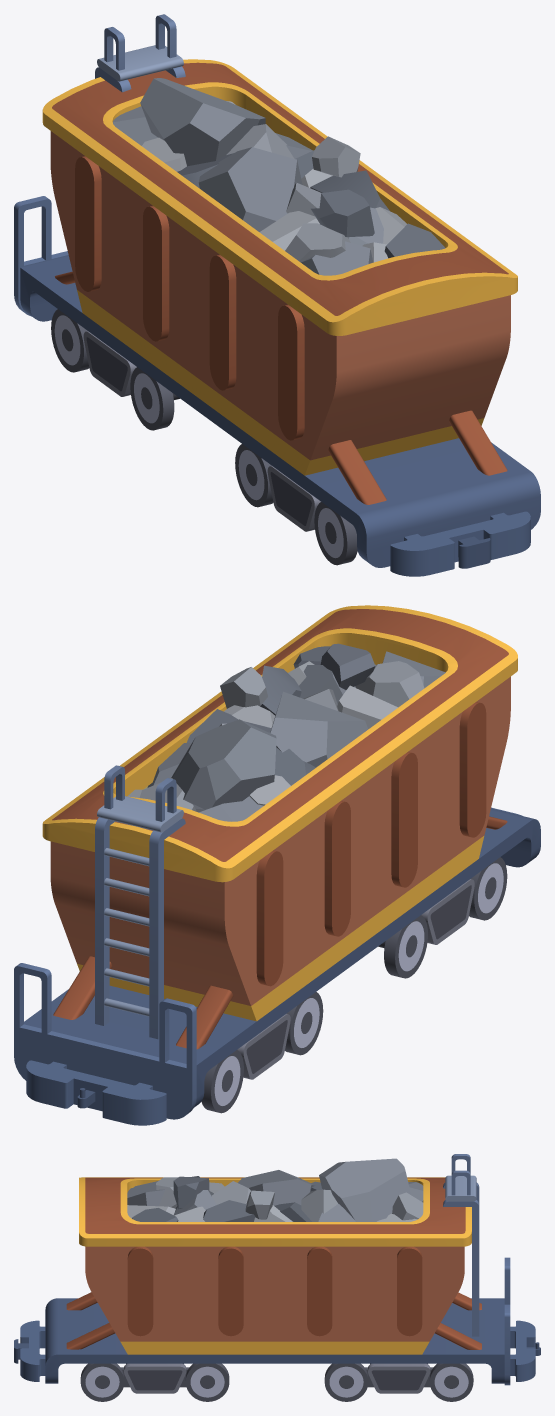
File: Wagon Hopper Open.fbx
3 views of the same model, one above another, from view 1: azimuth 30°, elevation 25°; view 2: azimuth 150°, elevation 25°; view 3: azimuth 270°, elevation 25° (orthographic). The views are drawn at different scales.
Visible parts, largest first — view 1: Wagon Hopper Open, Stone, Wagon Hopper Open Wheel.004, Wagon Hopper Open Wheel.002, Wagon Hopper Open Wheel.001, Wagon Hopper Open Wheel, Wagon Hopper Open Wheel.005, Wagon Hopper Open Wheel.003; view 2: Wagon Hopper Open, Stone, Wagon Hopper Open Wheel.003, Wagon Hopper Open Wheel.001, Wagon Hopper Open Wheel, Wagon Hopper Open Wheel.005, Wagon Hopper Open Wheel.002, Wagon Hopper Open Wheel.004; view 3: Wagon Hopper Open, Stone, Wagon Hopper Open Wheel, Wagon Hopper Open Wheel.001, Wagon Hopper Open Wheel.002, Wagon Hopper Open Wheel.004, Wagon Hopper Open Wheel.003, Wagon Hopper Open Wheel.005.
Part boxes in pixels (left/top/right/bottom): Wagon Hopper Open: left=14, top=14, right=540, bottom=576; Stone: left=113, top=78, right=445, bottom=275; Wagon Hopper Open Wheel.004: left=130, top=367, right=179, bottom=430; Wagon Hopper Open Wheel.002: left=314, top=502, right=357, bottom=565; Wagon Hopper Open Wheel.001: left=83, top=331, right=136, bottom=396; Wagon Hopper Open Wheel: left=267, top=466, right=320, bottom=531; Wagon Hopper Open Wheel.005: left=51, top=309, right=89, bottom=372; Wagon Hopper Open Wheel.003: left=235, top=444, right=273, bottom=507; Wagon Hopper Open: left=14, top=605, right=540, bottom=1125; Stone: left=127, top=643, right=445, bottom=821; Wagon Hopper Open Wheel.003: left=378, top=915, right=427, bottom=978; Wagon Hopper Open Wheel.001: left=237, top=1013, right=290, bottom=1079; Wagon Hopper Open Wheel: left=421, top=879, right=474, bottom=944; Wagon Hopper Open Wheel.005: left=201, top=1050, right=243, bottom=1113; Wagon Hopper Open Wheel.002: left=469, top=857, right=507, bottom=920; Wagon Hopper Open Wheel.004: left=285, top=992, right=323, bottom=1055; Wagon Hopper Open: left=14, top=1154, right=540, bottom=1385; Stone: left=127, top=1158, right=423, bottom=1221; Wagon Hopper Open Wheel: left=121, top=1363, right=189, bottom=1393; Wagon Hopper Open Wheel.001: left=365, top=1363, right=433, bottom=1393; Wagon Hopper Open Wheel.002: left=80, top=1363, right=124, bottom=1401; Wagon Hopper Open Wheel.004: left=324, top=1363, right=368, bottom=1401; Wagon Hopper Open Wheel.003: left=185, top=1363, right=229, bottom=1401; Wagon Hopper Open Wheel.005: left=429, top=1363, right=473, bottom=1401.
Bounding box in the file's own units: 2.81 × 4.55 × 10.21.
